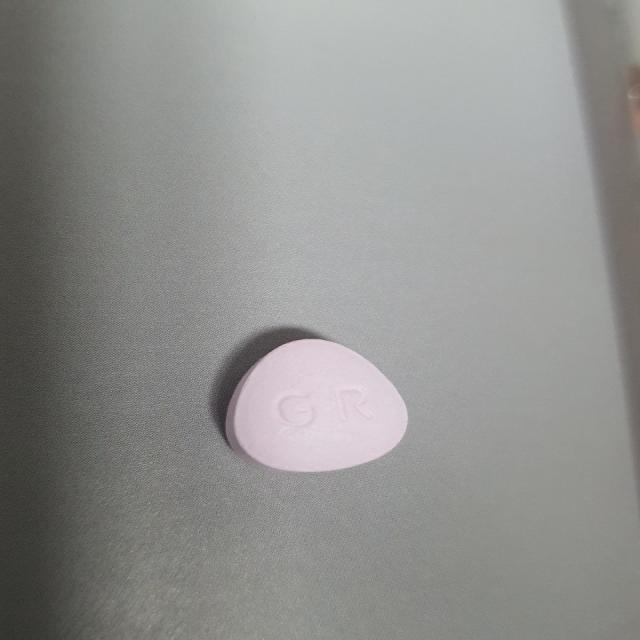pill: (200, 318, 422, 483)
